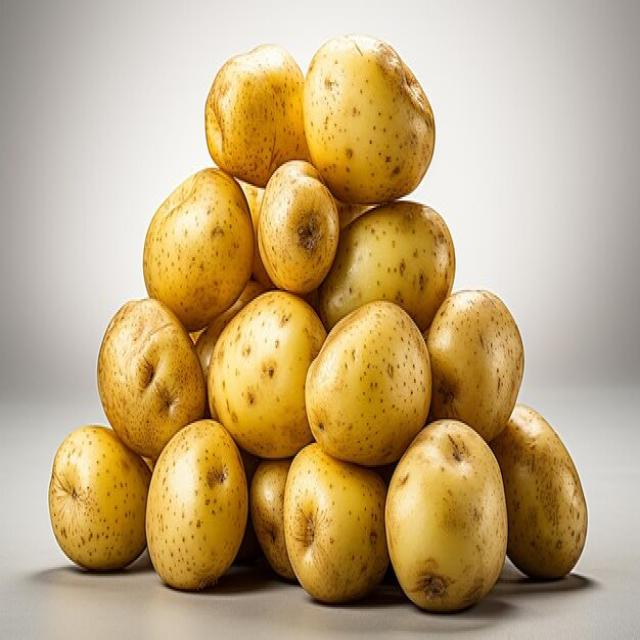Potato: (87, 286, 233, 503), (303, 289, 447, 480), (140, 146, 261, 348)
